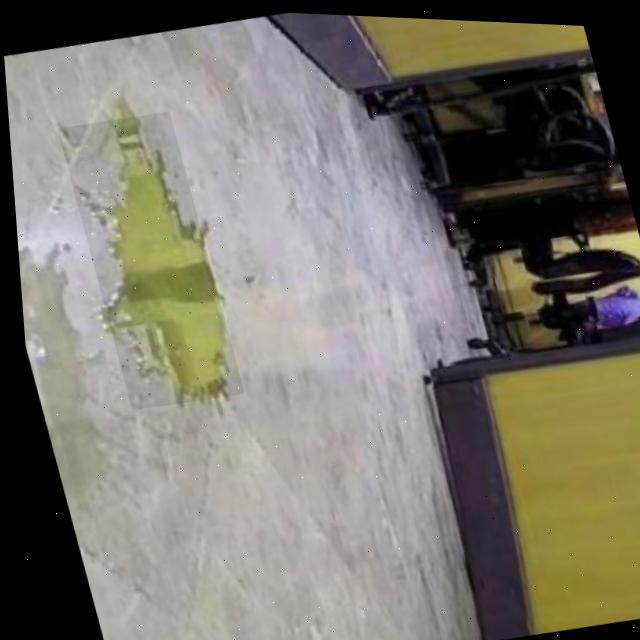spillage: (102, 118, 220, 396)
